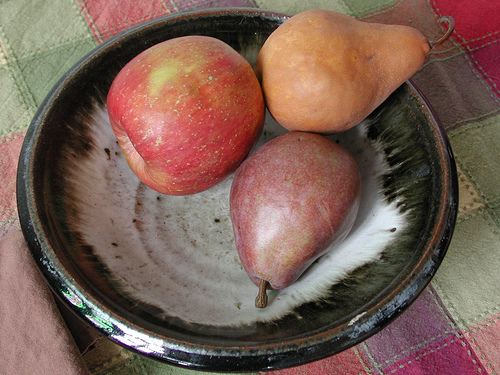apple: (106, 34, 267, 197)
